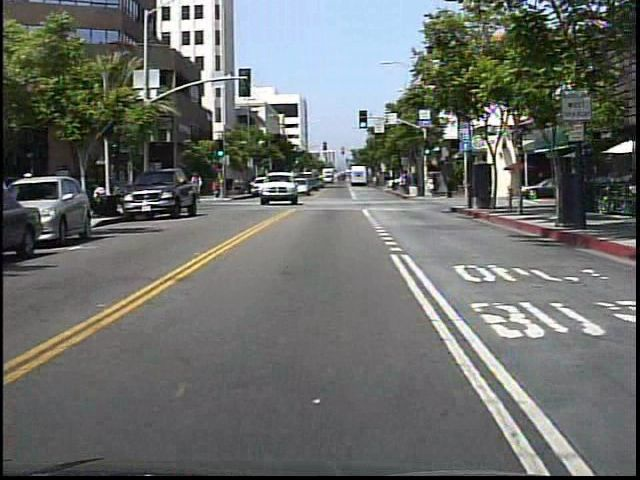person: (188, 170, 209, 203), (444, 171, 458, 203), (425, 177, 437, 200), (211, 176, 221, 200)
